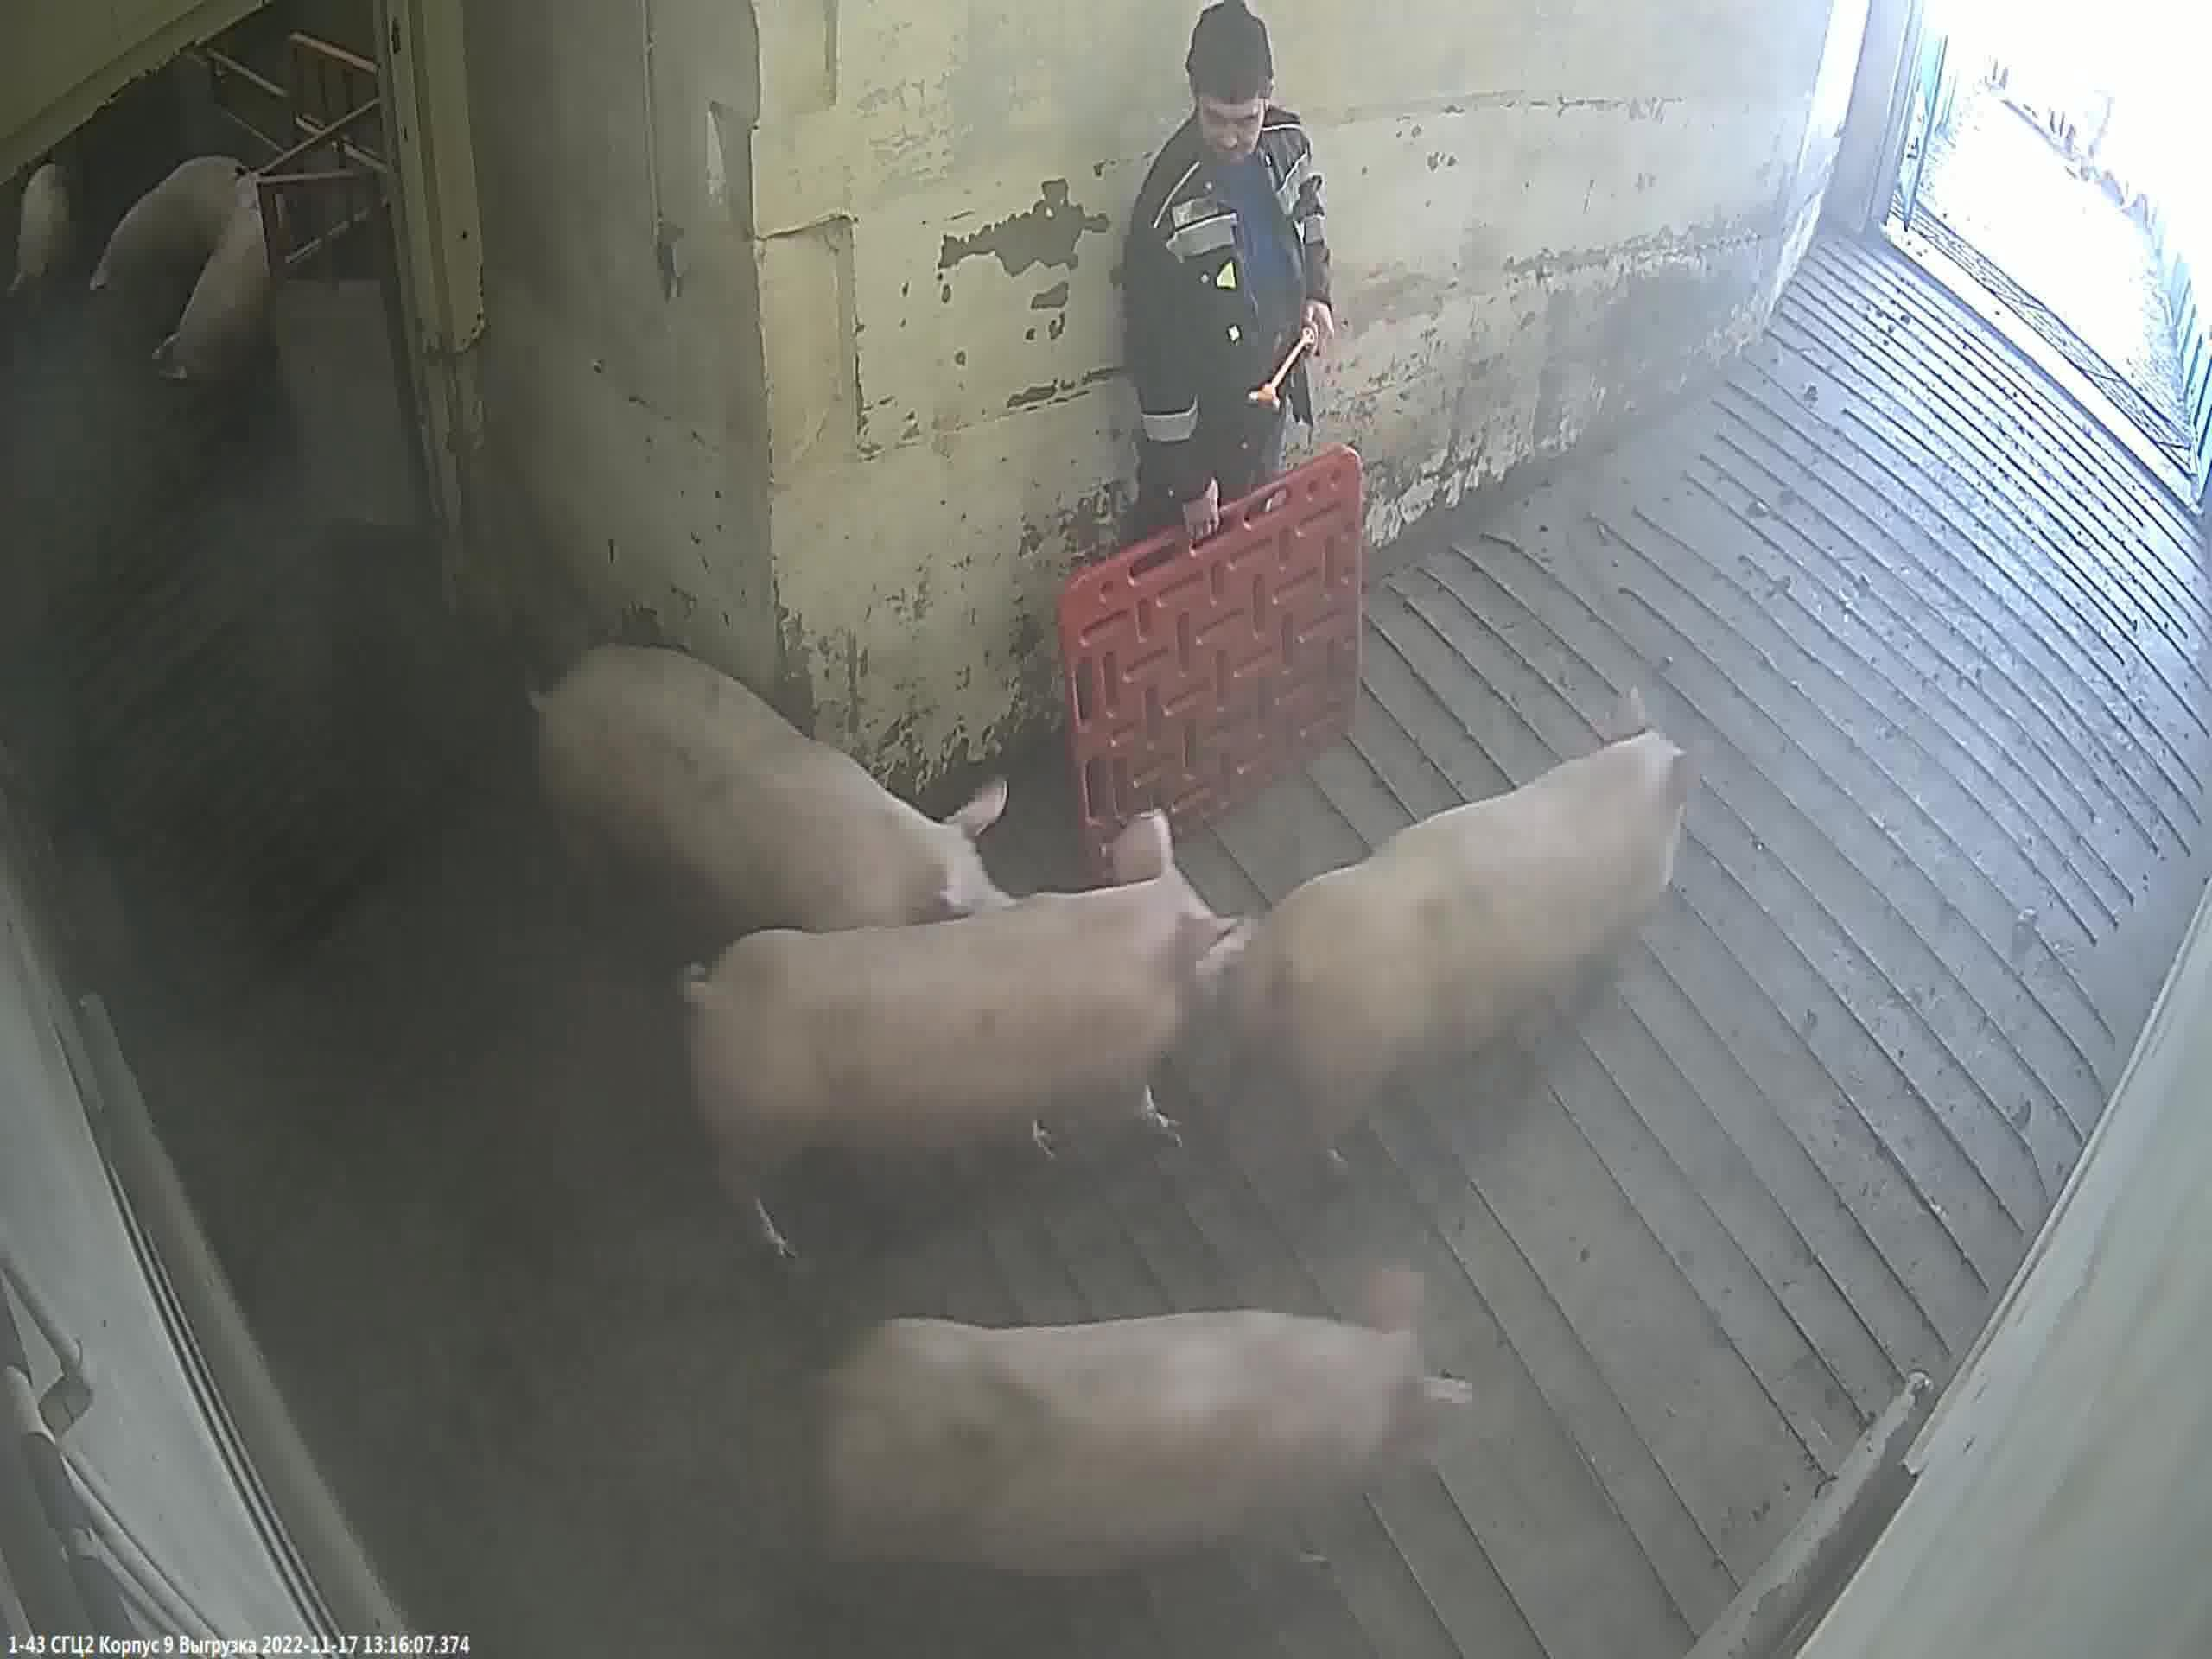Pigs: (1179, 735, 1693, 1211), (681, 866, 1256, 1272), (812, 1310, 1460, 1615), (531, 645, 1012, 979), (96, 157, 249, 345), (148, 186, 273, 397), (0, 173, 78, 303)
